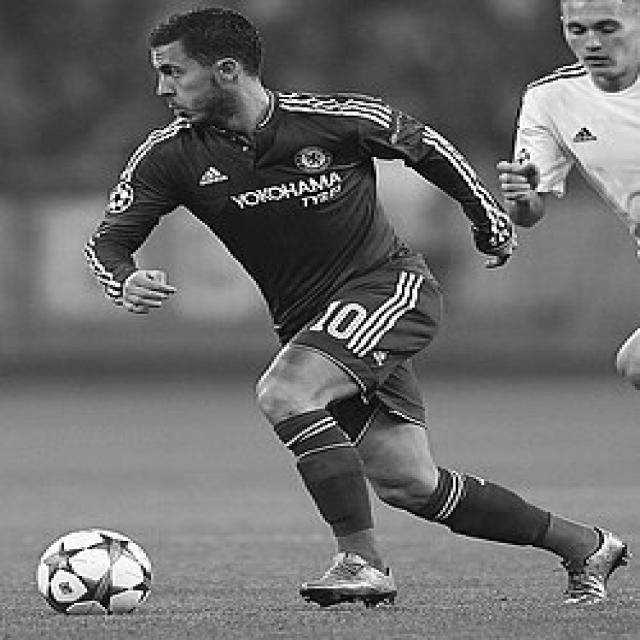football: (36, 520, 168, 623)
